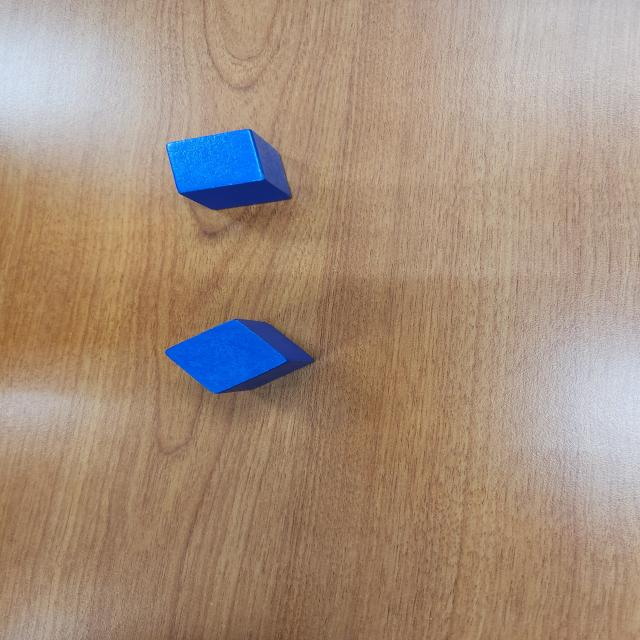blue: (164, 320, 315, 394), (165, 130, 293, 210)
